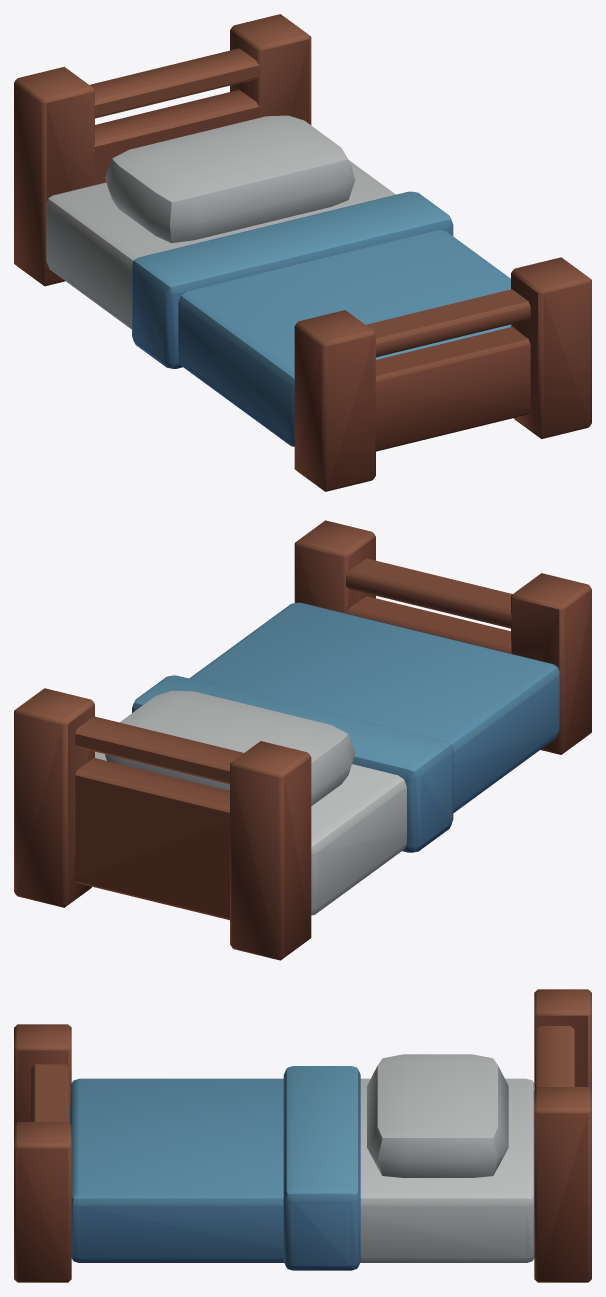
Rendered from kk_furniture_bed_single_B.glb.
The picture shows the model from 3 angles, top to bottom: view 1: azimuth 30°, elevation 25°; view 2: azimuth 150°, elevation 25°; view 3: azimuth 270°, elevation 25°; orthographic projection. The views are drawn at different scales.
Parts seen in each view (by area): view 1: kk_furniture_bed_single_B; view 2: kk_furniture_bed_single_B; view 3: kk_furniture_bed_single_B.
Boxes of the visible parts, <box> form: kk_furniture_bed_single_B: <box>14,14,591,491</box>; kk_furniture_bed_single_B: <box>14,520,591,960</box>; kk_furniture_bed_single_B: <box>14,989,591,1282</box>.
Size of the model in its own units: 1.6 by 1 by 3.
